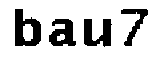7: (118, 7, 151, 49)
a: (48, 18, 77, 50)
b: (12, 7, 44, 51)
u: (80, 15, 116, 53)
